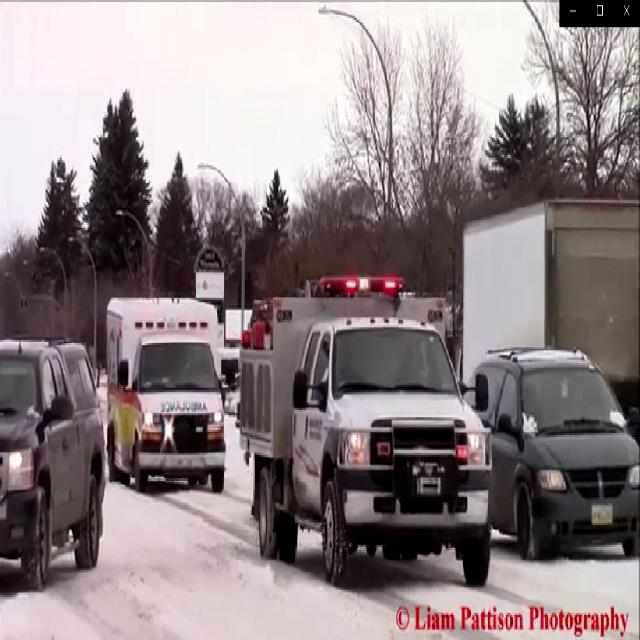emergency: (235, 275, 493, 592), (107, 295, 236, 501)
